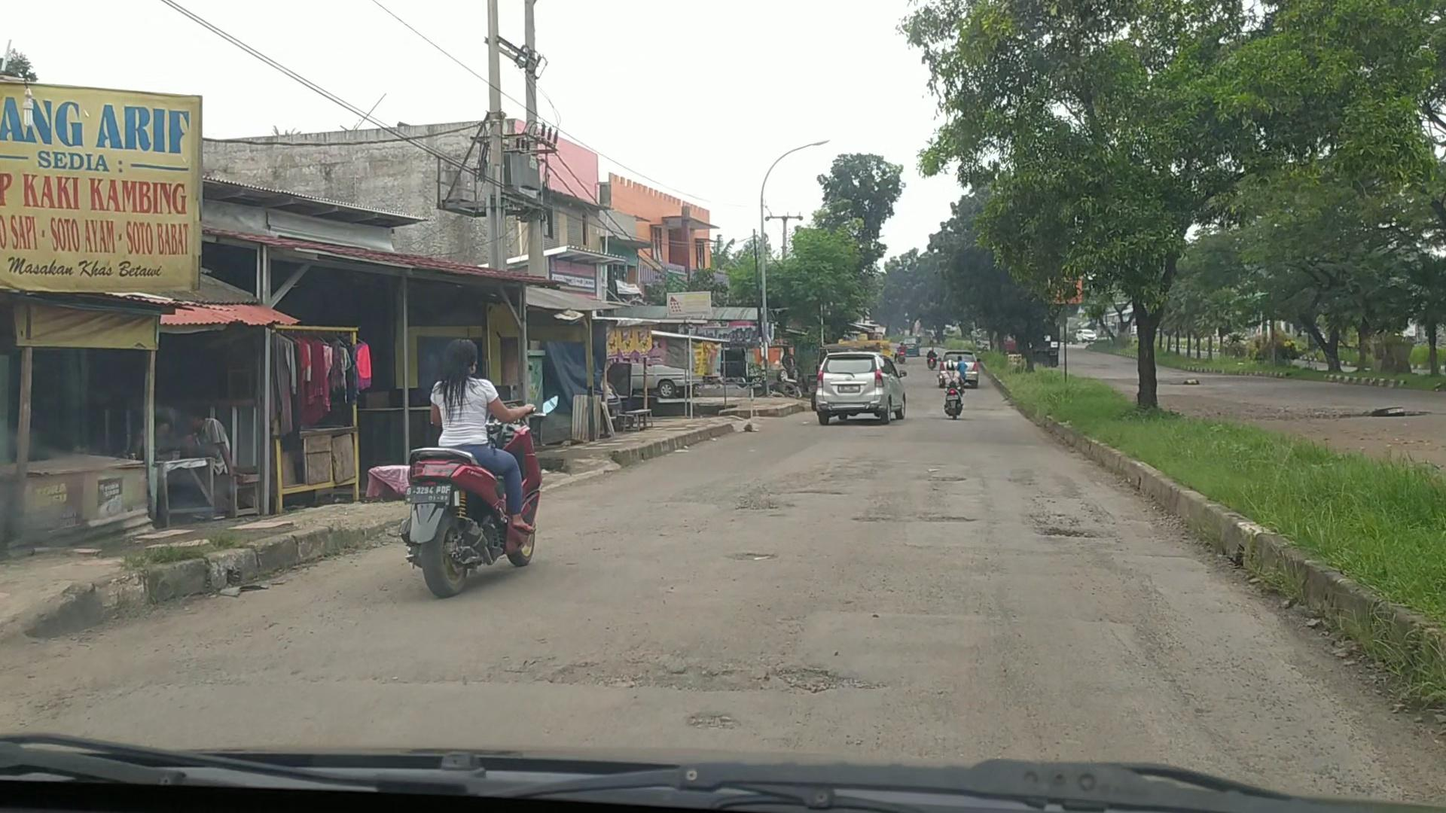pothole: (534, 657, 888, 696), (737, 484, 848, 512), (1025, 508, 1104, 540), (685, 711, 743, 731), (849, 515, 978, 523), (723, 550, 774, 562), (926, 476, 968, 482)
